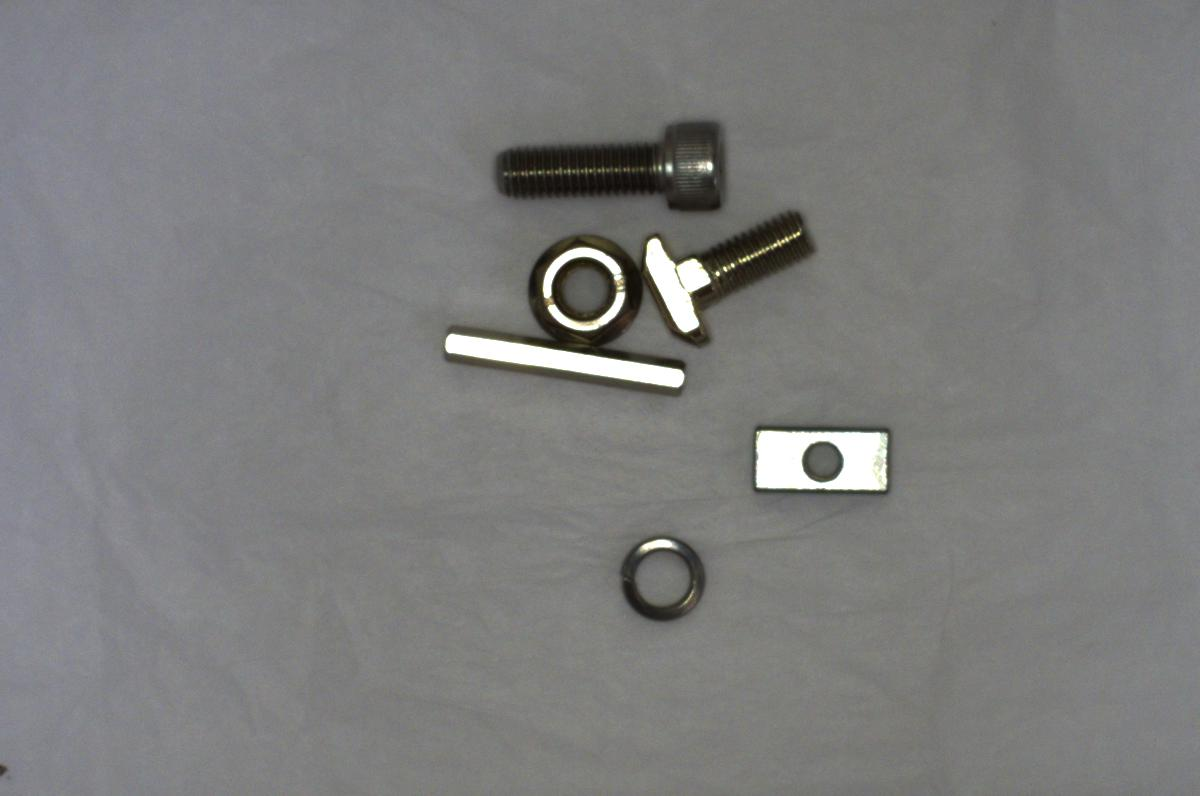Double hexagonal column: (442, 324, 685, 401)
Flange nut: (517, 230, 652, 351)
Hexagon screw: (485, 110, 738, 210)
Rectangular nut: (742, 414, 898, 503)
Spring washer: (601, 530, 720, 626)
T-shaped screw: (635, 199, 821, 345)
